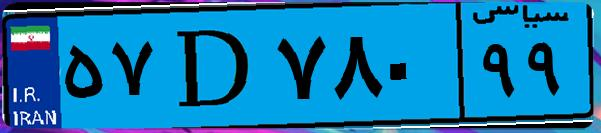0: (385, 28, 445, 110)
5: (57, 26, 110, 100)
7: (270, 28, 330, 110), (110, 28, 158, 98)
8: (330, 28, 385, 110)
9: (475, 38, 525, 113), (525, 38, 570, 115)
D: (158, 12, 270, 120)
